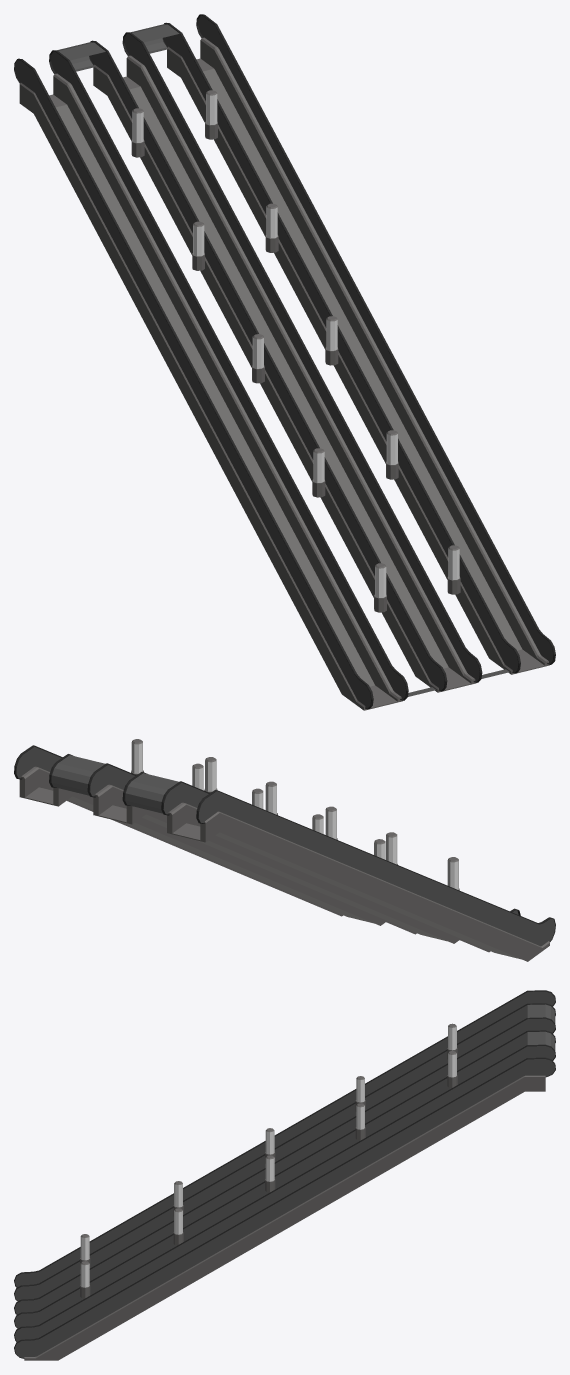
Rendered from eskalator.fbx.
3 renders of one model, top to bottom at view 1: azimuth 30°, elevation 25°; view 2: azimuth 150°, elevation 25°; view 3: azimuth 270°, elevation 25°, orthographic. The views are drawn at different scales.
Parts seen in each view (by area): view 1: Куб.001; view 2: Куб.001; view 3: Куб.001.
Part boxes in pixels (x1=…): Куб.001: x1=14, y1=14, x2=555, y2=710; Куб.001: x1=14, y1=739, x2=555, y2=961; Куб.001: x1=14, y1=990, x2=555, y2=1360.
Size of the model in its own units: 8.36 by 17.13 by 27.84.
